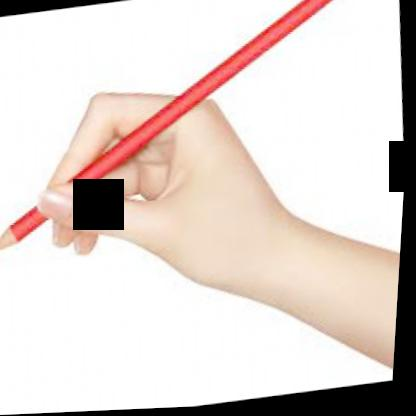pencil: (0, 0, 349, 262)
